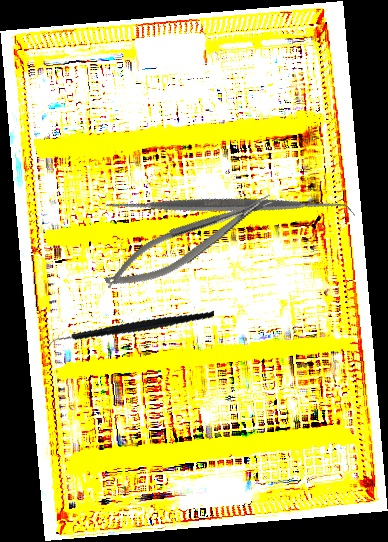Chopper: (46, 280, 215, 383)
Needle Holder: (97, 185, 282, 300)
Spatula Surgical: (97, 76, 356, 335)
